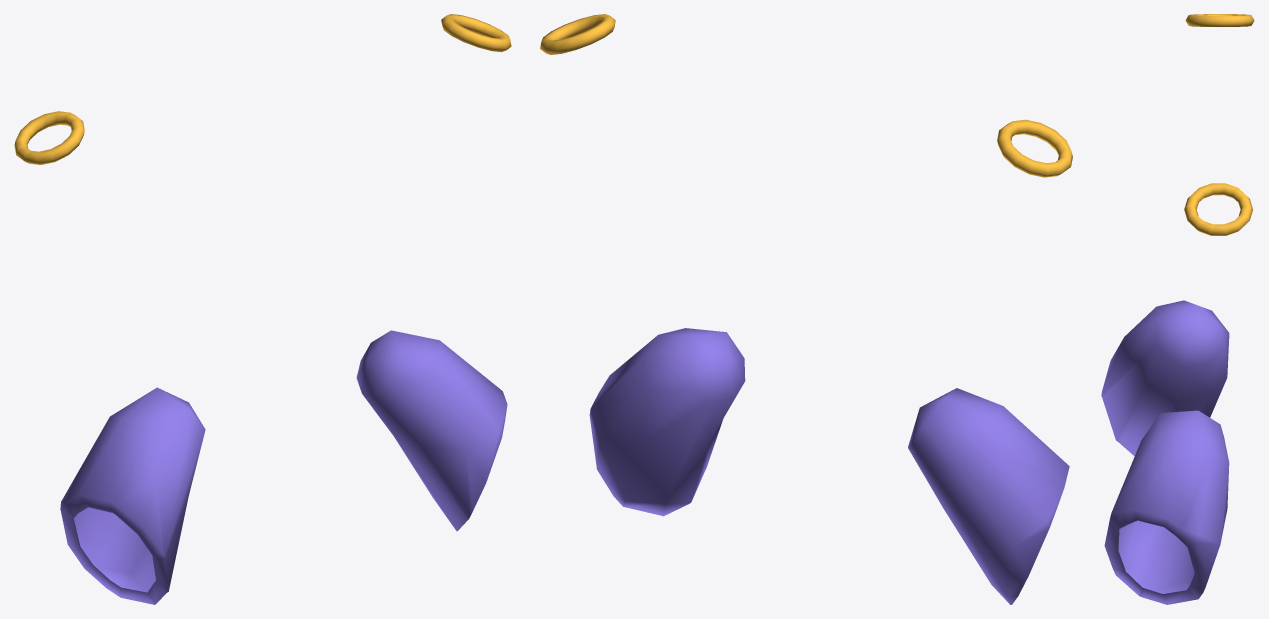
The model's file is rings-sleeves.fbx.
3 renders of one model, left to right at view 1: azimuth 30°, elevation 25°; view 2: azimuth 150°, elevation 25°; view 3: azimuth 270°, elevation 25°, orthographic. The views are drawn at different scales.
Parts seen in each view (by area): view 1: Bear__Shirt_Hoodie_SleeveL, Bear__Shirt_Hoodie_SleeveR, Bear__HelixL_Ring, Bear__HelixR_Ring; view 2: Bear__Shirt_Hoodie_SleeveR, Bear__Shirt_Hoodie_SleeveL, Bear__HelixL_Ring, Bear__HelixR_Ring; view 3: Bear__Shirt_Hoodie_SleeveR, Bear__Shirt_Hoodie_SleeveL, Bear__HelixR_Ring, Bear__HelixL_Ring.
Boxes of the visible parts, x1=… form: Bear__Shirt_Hoodie_SleeveL: x1=60, y1=387, x2=205, y2=604; Bear__Shirt_Hoodie_SleeveR: x1=356, y1=330, x2=507, y2=531; Bear__HelixL_Ring: x1=14, y1=111, x2=84, y2=164; Bear__HelixR_Ring: x1=441, y1=14, x2=511, y2=52; Bear__Shirt_Hoodie_SleeveR: x1=589, y1=328, x2=745, y2=516; Bear__Shirt_Hoodie_SleeveL: x1=908, y1=388, x2=1069, y2=604; Bear__HelixL_Ring: x1=997, y1=119, x2=1072, y2=177; Bear__HelixR_Ring: x1=540, y1=14, x2=615, y2=54; Bear__Shirt_Hoodie_SleeveR: x1=1104, y1=410, x2=1229, y2=604; Bear__Shirt_Hoodie_SleeveL: x1=1101, y1=300, x2=1229, y2=455; Bear__HelixR_Ring: x1=1184, y1=183, x2=1252, y2=235; Bear__HelixL_Ring: x1=1185, y1=14, x2=1254, y2=26.
Size of the model in its own units: 102 by 94.86 by 30.37.
